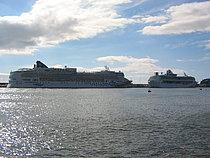Ship: (4, 60, 137, 92), (146, 67, 203, 91)
